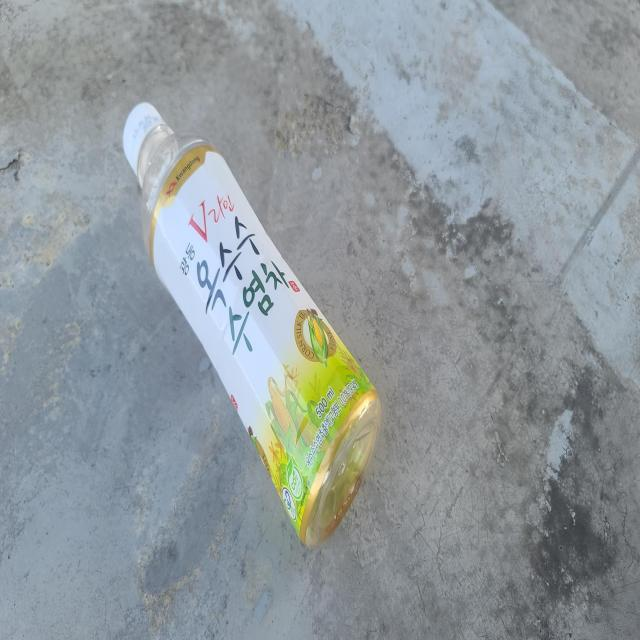plastic: (123, 101, 381, 547)
